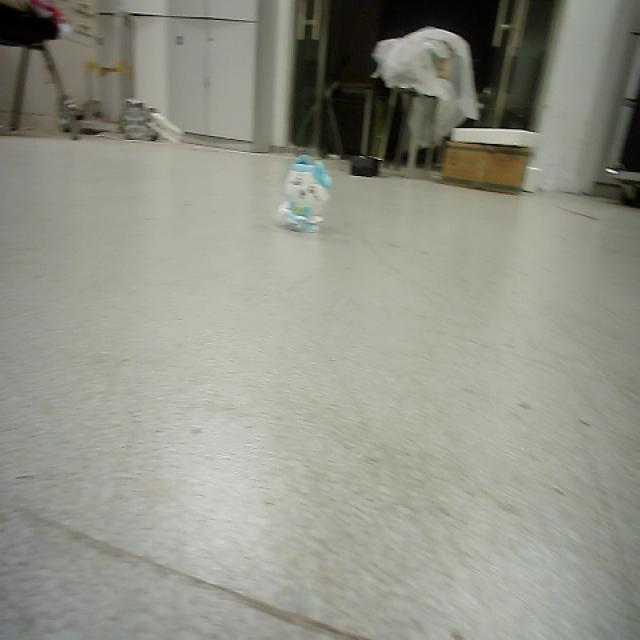xiaoba: (282, 151, 329, 236)
